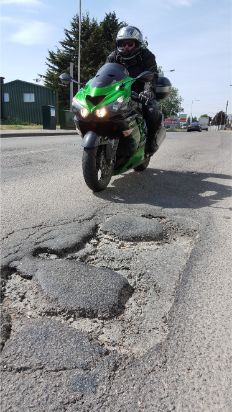pothole: (34, 217, 203, 363)
